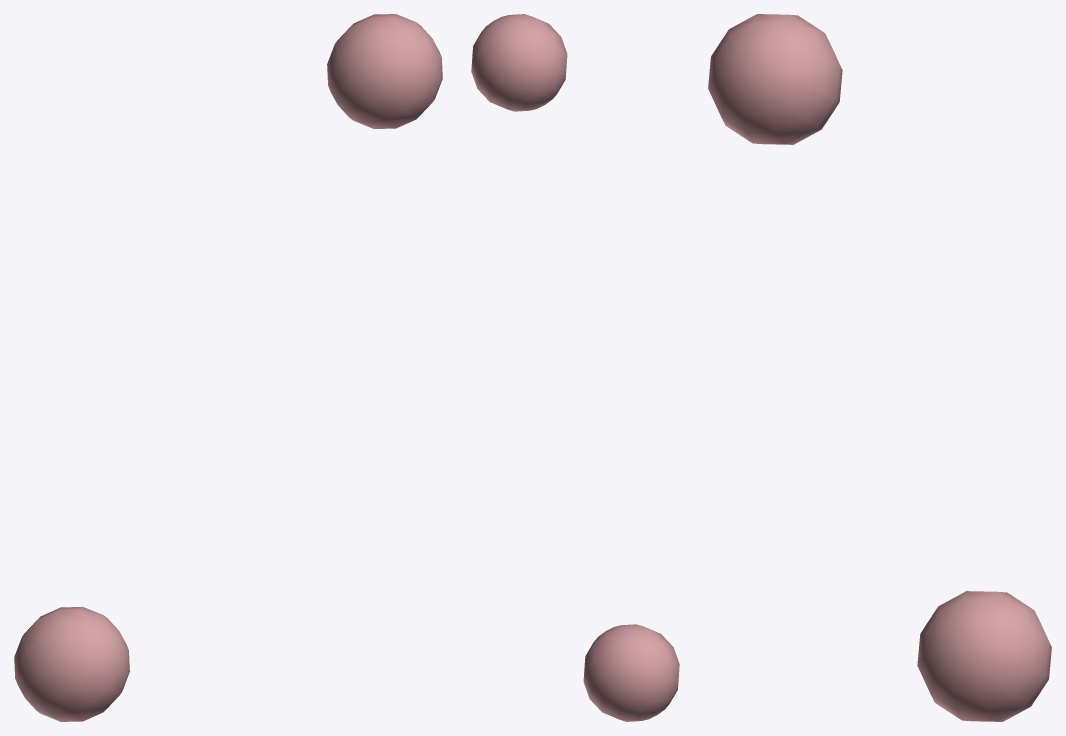
3 views of the same model, side by side, from view 1: azimuth 30°, elevation 25°; view 2: azimuth 150°, elevation 25°; view 3: azimuth 270°, elevation 25° (orthographic). The views are drawn at different scales.
Visible parts, largest first — view 1: ZA_19b0cb8557134cdd; view 2: ZA_19b0cb8557134cdd; view 3: ZA_19b0cb8557134cdd.
Part boxes in pixels (left/top/right/bottom): ZA_19b0cb8557134cdd: left=14, top=14, right=442, bottom=721; ZA_19b0cb8557134cdd: left=471, top=14, right=679, bottom=721; ZA_19b0cb8557134cdd: left=708, top=14, right=1051, bottom=721.
Bounding box in the file's own units: 0.00828 × 0.0173 × 0.00654.
